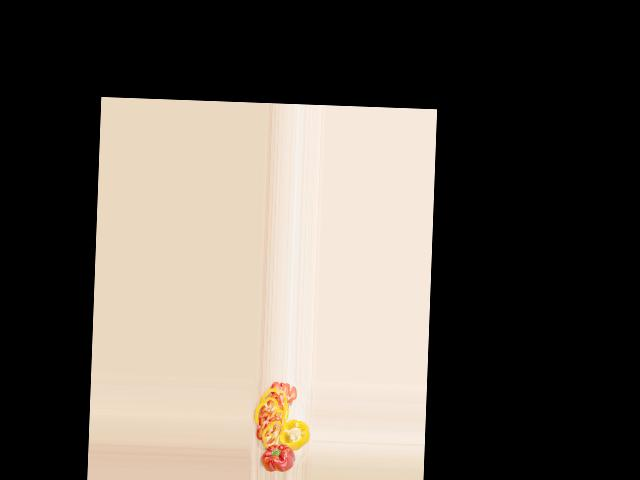bell_pepper: (279, 417, 311, 449)
